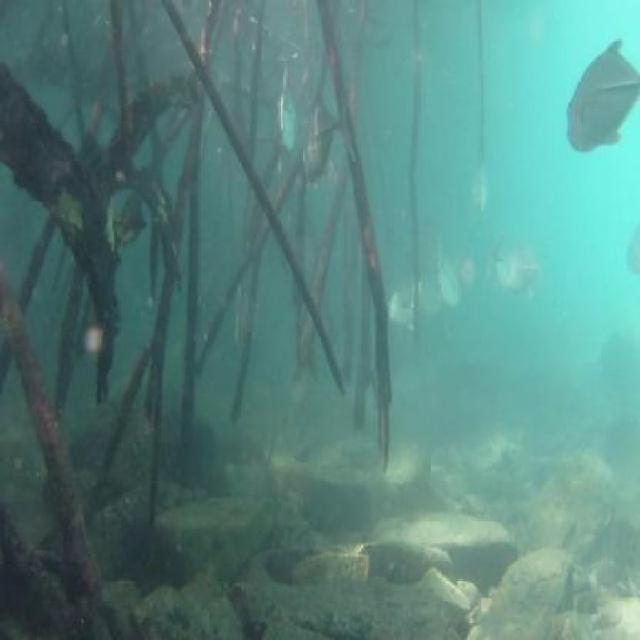Caranx_sexfasciatus_juvenile: (566, 31, 640, 158), (302, 88, 356, 192), (384, 268, 422, 344), (480, 231, 515, 303), (430, 244, 461, 313), (276, 65, 298, 157), (511, 238, 542, 299), (456, 246, 478, 292), (471, 163, 489, 217)
